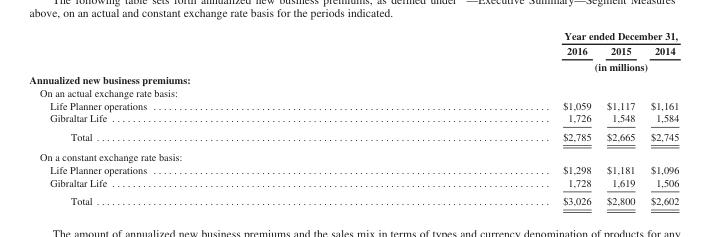table: (28, 29, 678, 206)
table column: (28, 29, 354, 206), (354, 29, 598, 206), (598, 29, 642, 206), (642, 29, 678, 206)
table column header: (28, 29, 678, 72)
table projected row header: (28, 146, 678, 163), (28, 72, 678, 85), (28, 85, 678, 98)
table row: (28, 126, 678, 146), (28, 146, 678, 163), (28, 42, 678, 58), (28, 111, 678, 126), (28, 176, 678, 191), (28, 191, 678, 206), (28, 58, 678, 72), (28, 29, 678, 42), (28, 72, 678, 85), (28, 85, 678, 98), (28, 98, 678, 111), (28, 163, 678, 176)
table spanning cell: (354, 58, 678, 72), (354, 29, 678, 42)
